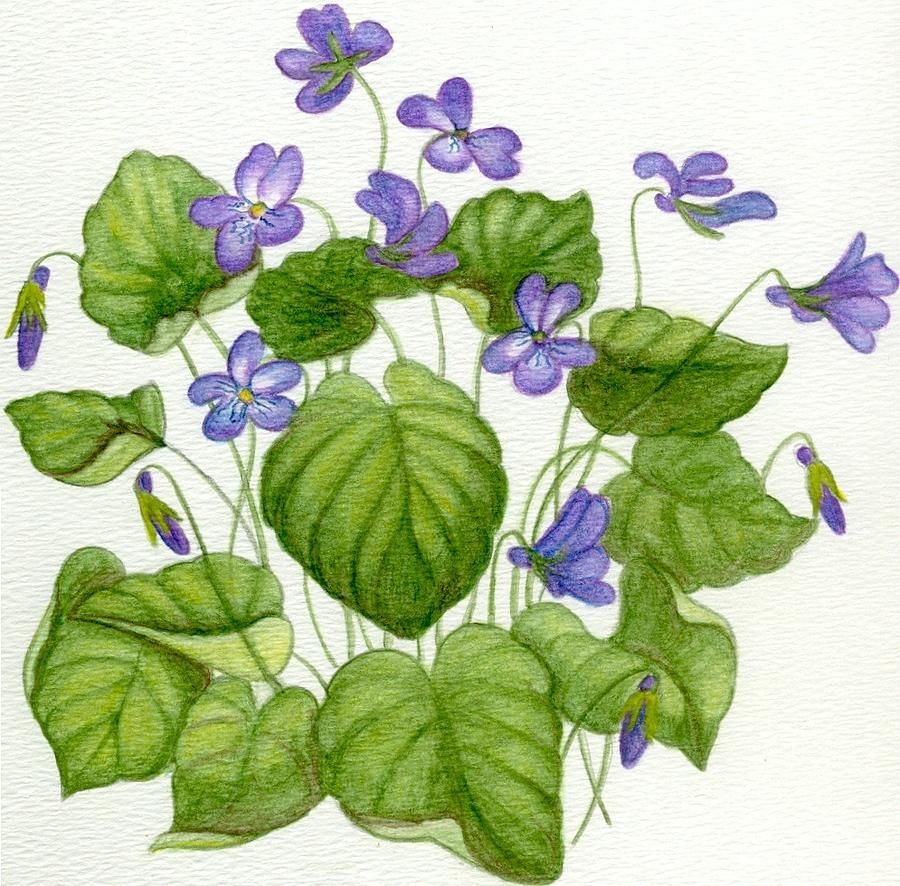violet: (768, 225, 900, 364), (389, 74, 536, 184), (623, 143, 779, 243), (201, 127, 304, 259), (491, 271, 596, 393), (358, 165, 458, 284), (183, 330, 299, 431), (281, 7, 383, 114), (539, 481, 610, 608)
